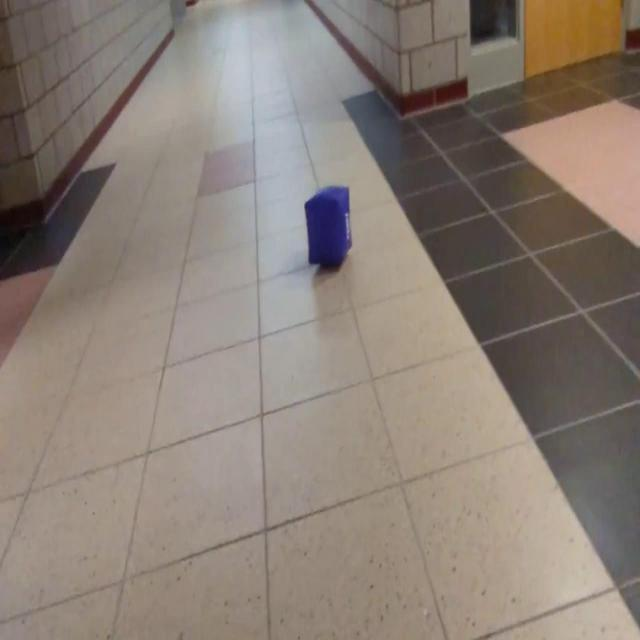frc_cube: (304, 186, 350, 269)
